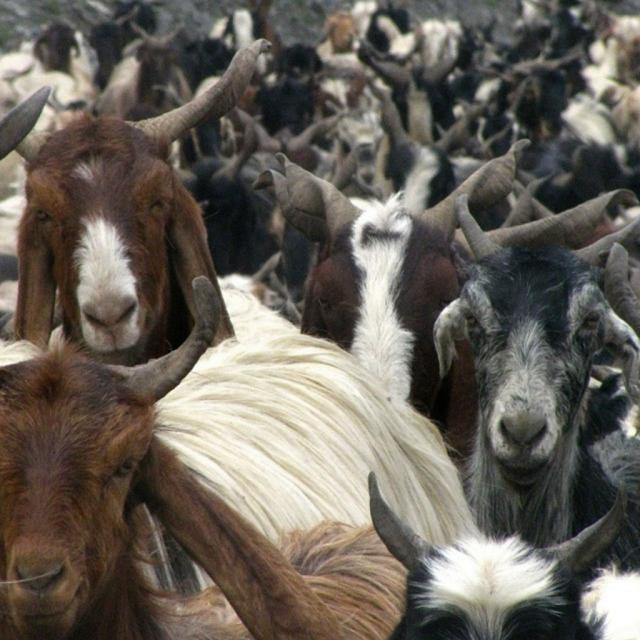Goat: (3, 36, 273, 364)
